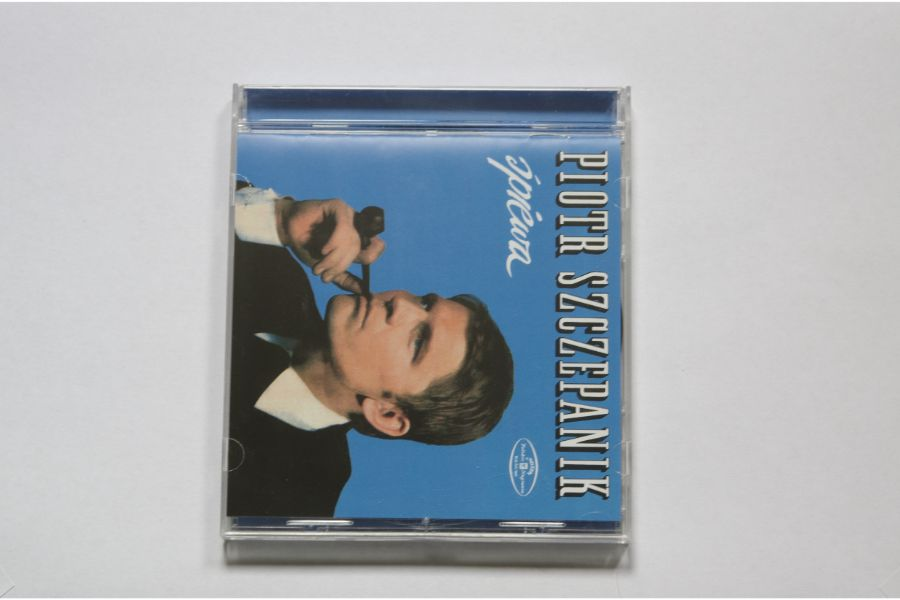album: (220, 83, 634, 551)
